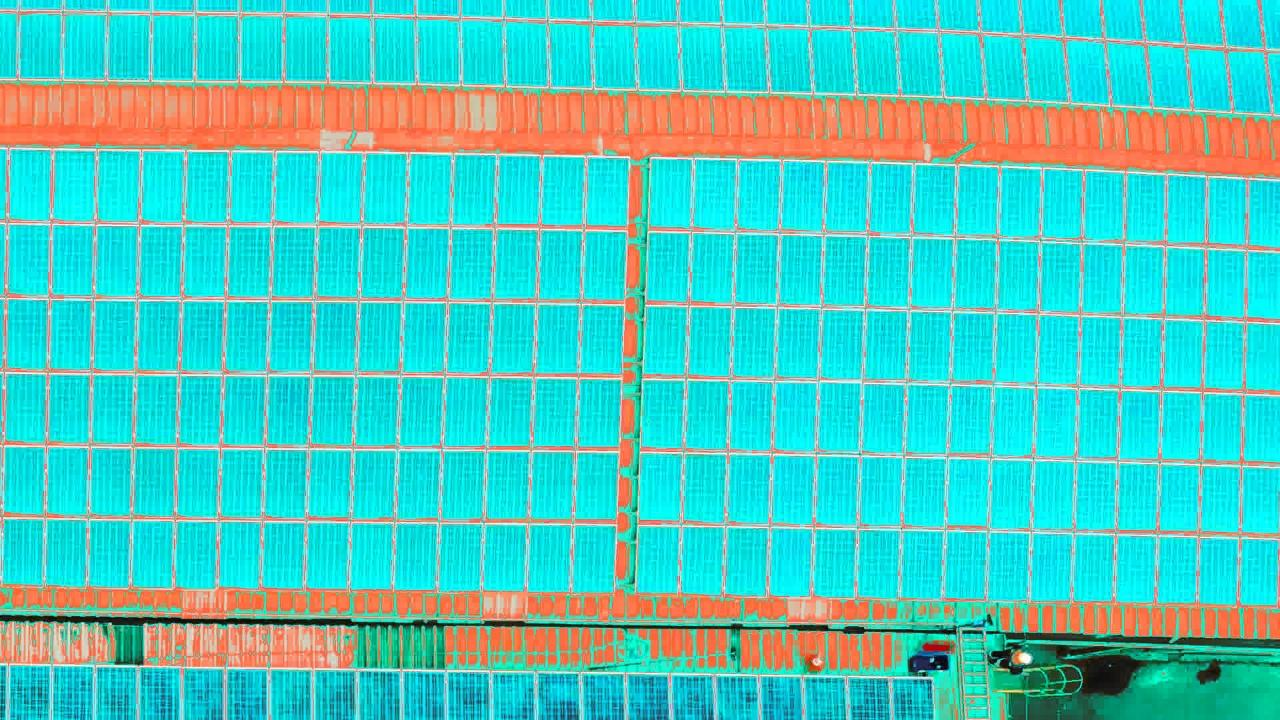dirty: (646, 160, 1280, 612), (5, 147, 620, 599), (12, 5, 1280, 110), (9, 666, 916, 720)
